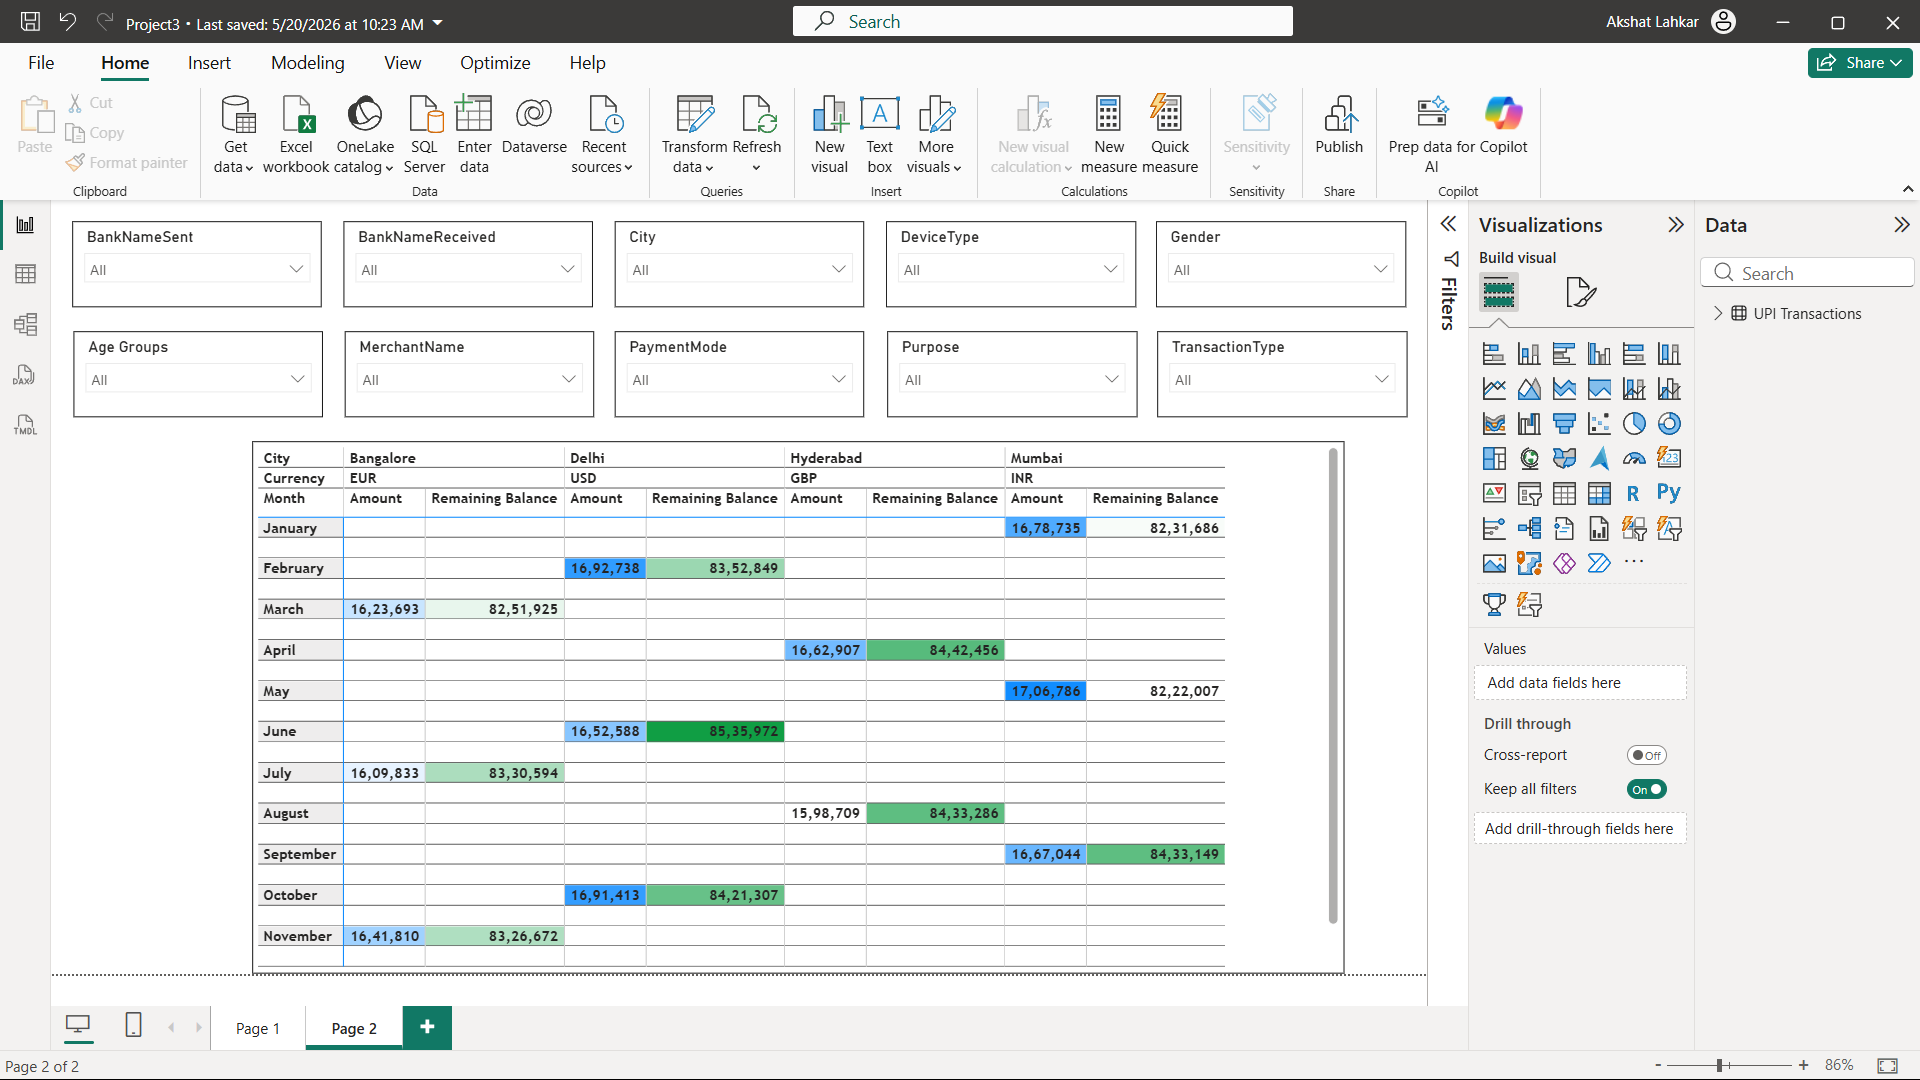

This screenshot's page, from the dashboard's own definition file:
{"tool":"powerbi","page":{"name":"Page 2","canvas":[1280,720],"ordinal":1},"visuals":[{"type":"slicer","fields":{"Values":["UPI Transactions.BankNameSent"]},"box":[20,20,232,80],"z":0},{"type":"slicer","fields":{"Values":["UPI Transactions.BankNameReceived"]},"box":[272,20,232,80.2],"z":1000},{"type":"slicer","fields":{"Values":["UPI Transactions.City"]},"box":[524,20,232,80.2],"z":2000},{"type":"slicer","fields":{"Values":["UPI Transactions.DeviceType"]},"box":[776.7,20,232.6,80.2],"z":3000},{"type":"slicer","fields":{"Values":["UPI Transactions.Gender"]},"box":[1028,20,232.6,80.2],"z":4000},{"type":"slicer","fields":{"Values":["UPI Transactions.Age Groups"]},"box":[20.7,122.1,232,80],"z":5000},{"type":"slicer","fields":{"Values":["UPI Transactions.MerchantName"]},"box":[272.7,122.1,232,80.2],"z":6000},{"type":"slicer","fields":{"Values":["UPI Transactions.PaymentMode"]},"box":[524.7,122.1,232,80.2],"z":7000},{"type":"slicer","fields":{"Values":["UPI Transactions.Purpose"]},"box":[777.4,122.1,232.6,80.2],"z":8000},{"type":"slicer","fields":{"Values":["UPI Transactions.TransactionType"]},"box":[1028.7,122.1,232.6,80.2],"z":9000},{"type":"pivotTable","fields":{"Values":["Sum(UPI Transactions.Amount)","Sum(UPI Transactions.RemainingBalance)"],"Rows":["UPI Transactions.TransactionDate.Variation.Date Hierarchy.Month"],"Columns":["UPI Transactions.City","UPI Transactions.Currency"]},"box":[187.2,224.4,1016.3,495.4],"z":10000}]}

Visuals, with their boxes on the page's 1280x720 design canvas (x1, y1, x2, y2). These are canvas units, not pixel positions in the 1920x1080 screenshot, which may show the page scaled, cropped or inside an application window:
slicer - UPI Transactions.BankNameSent: bbox(20, 20, 252, 100)
slicer - UPI Transactions.BankNameReceived: bbox(272, 20, 504, 100)
slicer - UPI Transactions.City: bbox(524, 20, 756, 100)
slicer - UPI Transactions.DeviceType: bbox(777, 20, 1009, 100)
slicer - UPI Transactions.Gender: bbox(1028, 20, 1261, 100)
slicer - UPI Transactions.Age Groups: bbox(21, 122, 253, 202)
slicer - UPI Transactions.MerchantName: bbox(273, 122, 505, 202)
slicer - UPI Transactions.PaymentMode: bbox(525, 122, 757, 202)
slicer - UPI Transactions.Purpose: bbox(777, 122, 1010, 202)
slicer - UPI Transactions.TransactionType: bbox(1029, 122, 1261, 202)
pivotTable - Sum(UPI Transactions.Amount) x Sum(UPI Transactions.RemainingBalance): bbox(187, 224, 1204, 720)
